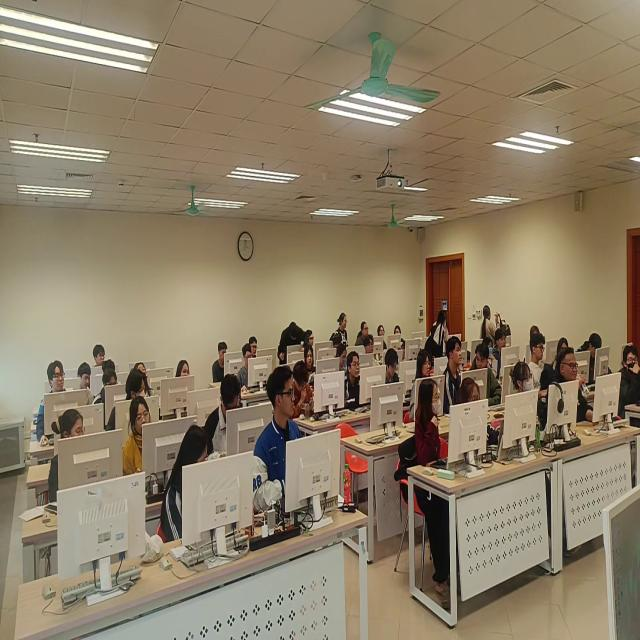raise_head: (511, 363, 556, 437), (125, 400, 160, 489), (40, 359, 72, 446), (444, 339, 469, 407), (342, 352, 368, 417), (618, 346, 640, 421), (529, 336, 549, 380), (173, 358, 196, 395), (416, 353, 434, 400), (497, 329, 514, 372), (93, 344, 108, 373), (364, 334, 377, 362), (378, 324, 391, 352), (307, 329, 320, 353)
stand: (276, 321, 307, 372), (430, 311, 449, 373), (331, 312, 349, 359)
using_computer: (554, 350, 607, 433), (458, 383, 506, 457), (207, 375, 246, 463), (578, 334, 610, 385), (236, 344, 263, 396), (382, 351, 409, 401), (94, 371, 119, 414), (213, 344, 237, 385), (305, 346, 327, 382), (335, 347, 352, 374)
using_phone: (289, 365, 320, 424)
